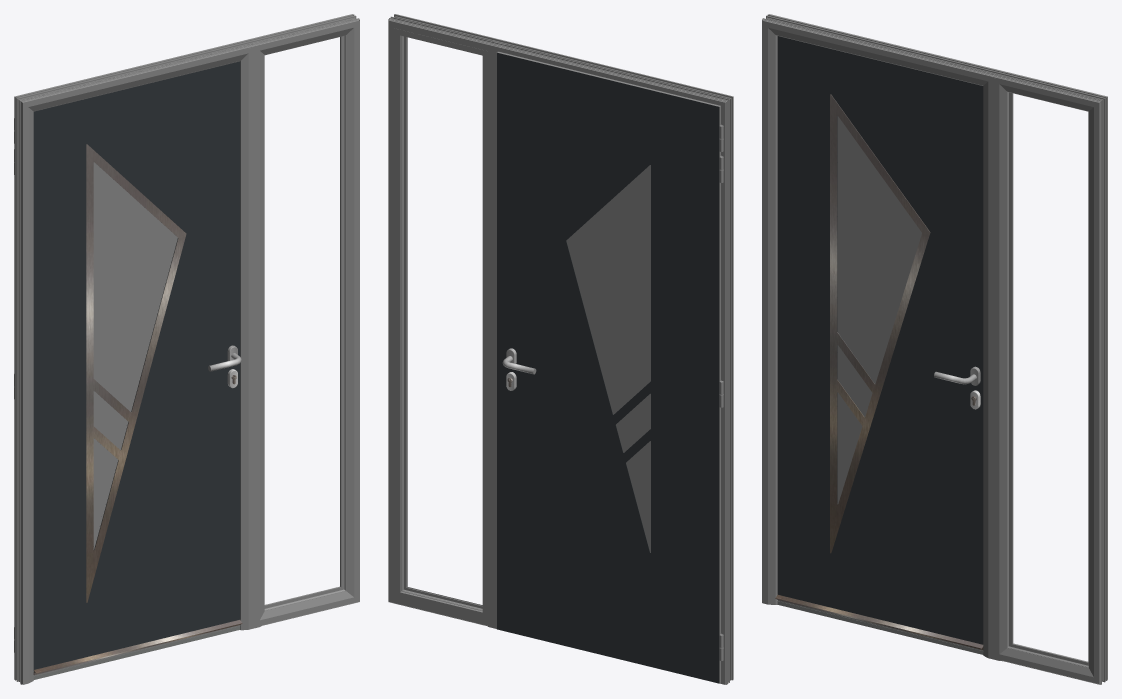
The picture shows the model from 3 angles, left to right: view 1: azimuth 30°, elevation 25°; view 2: azimuth 150°, elevation 25°; view 3: azimuth 330°, elevation 25°; orthographic projection.
Parts seen in each view (by area): view 1: bloco_117, Rectangle002, Vidro Porta, Line004, alunox_070, Object, Object001, Line005, Rectangle005, Rectangle003; view 2: bloco_117, Rectangle002, Vidro Porta, Rectangle003, Line004, Object001, Rectangle004, Object; view 3: bloco_117, Rectangle002, Vidro Porta, Line004, alunox_070, Object001, Object, Line005, Rectangle003, Rectangle005.
Boxes of the visible parts, x1,y1,x2,y2 form: bloco_117: [33, 61, 240, 671]; Rectangle002: [14, 14, 359, 684]; Vidro Porta: [93, 162, 177, 549]; Line004: [240, 46, 264, 630]; alunox_070: [86, 144, 186, 602]; Object: [33, 35, 346, 680]; Object001: [264, 36, 344, 608]; Line005: [33, 620, 242, 674]; Rectangle005: [33, 625, 240, 679]; Rectangle003: [264, 37, 340, 605]; bloco_117: [497, 52, 719, 683]; Rectangle002: [388, 14, 733, 684]; Vidro Porta: [566, 165, 650, 552]; Rectangle003: [394, 28, 487, 619]; Line004: [488, 41, 504, 628]; Object001: [401, 36, 482, 610]; Rectangle004: [496, 51, 720, 683]; Object: [404, 36, 482, 608]; bloco_117: [777, 36, 983, 644]; Rectangle002: [762, 14, 1107, 684]; Vidro Porta: [837, 116, 921, 503]; Line004: [983, 77, 1007, 661]; alunox_070: [830, 94, 930, 553]; Object001: [1007, 92, 1088, 665]; Object: [776, 35, 1088, 667]; Line005: [775, 595, 983, 649]; Rectangle003: [1012, 93, 1087, 662]; Rectangle005: [777, 600, 983, 654].
Bounding box in the file's own units: 1307 × 2150 × 192.
7 materials, 4 textured.
